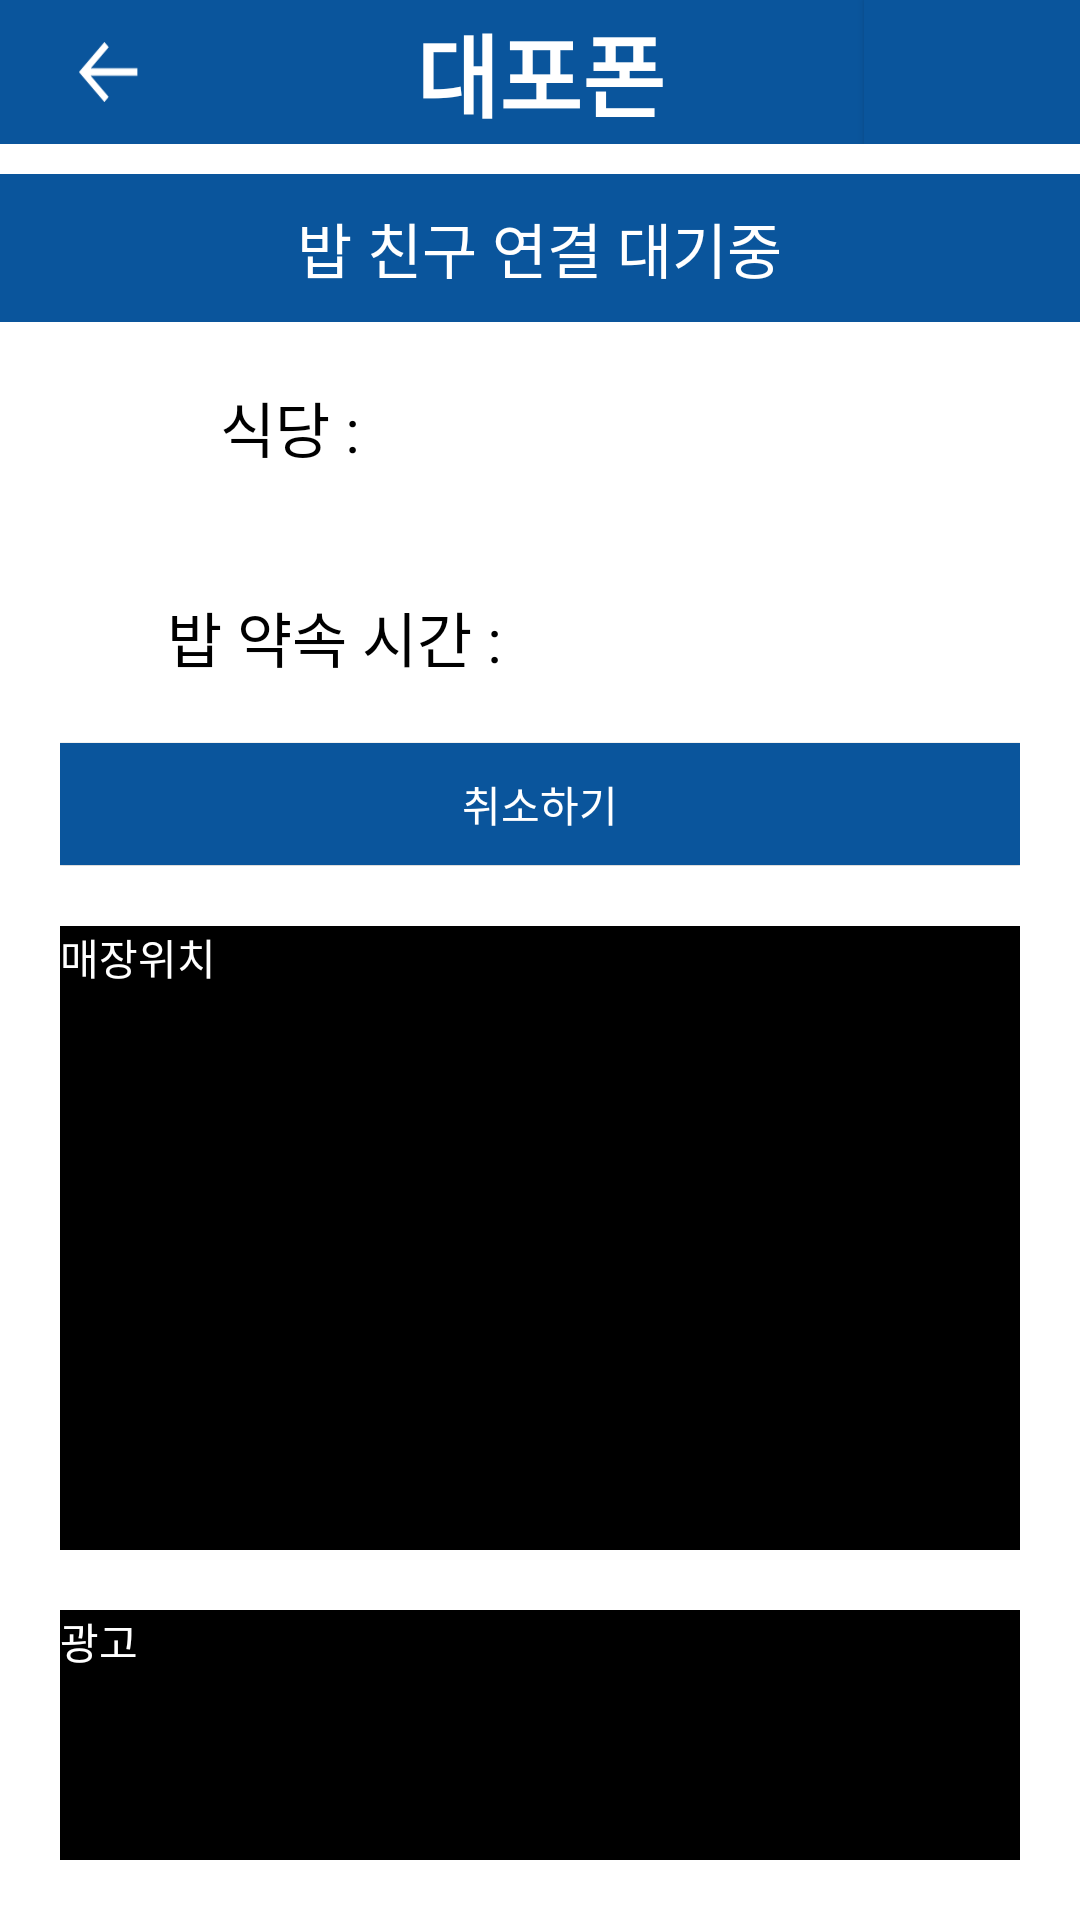

Named icons in this screenshot (1080w x 1920h) and their centers, [x,y]:
back arrow resize: [108,72]
